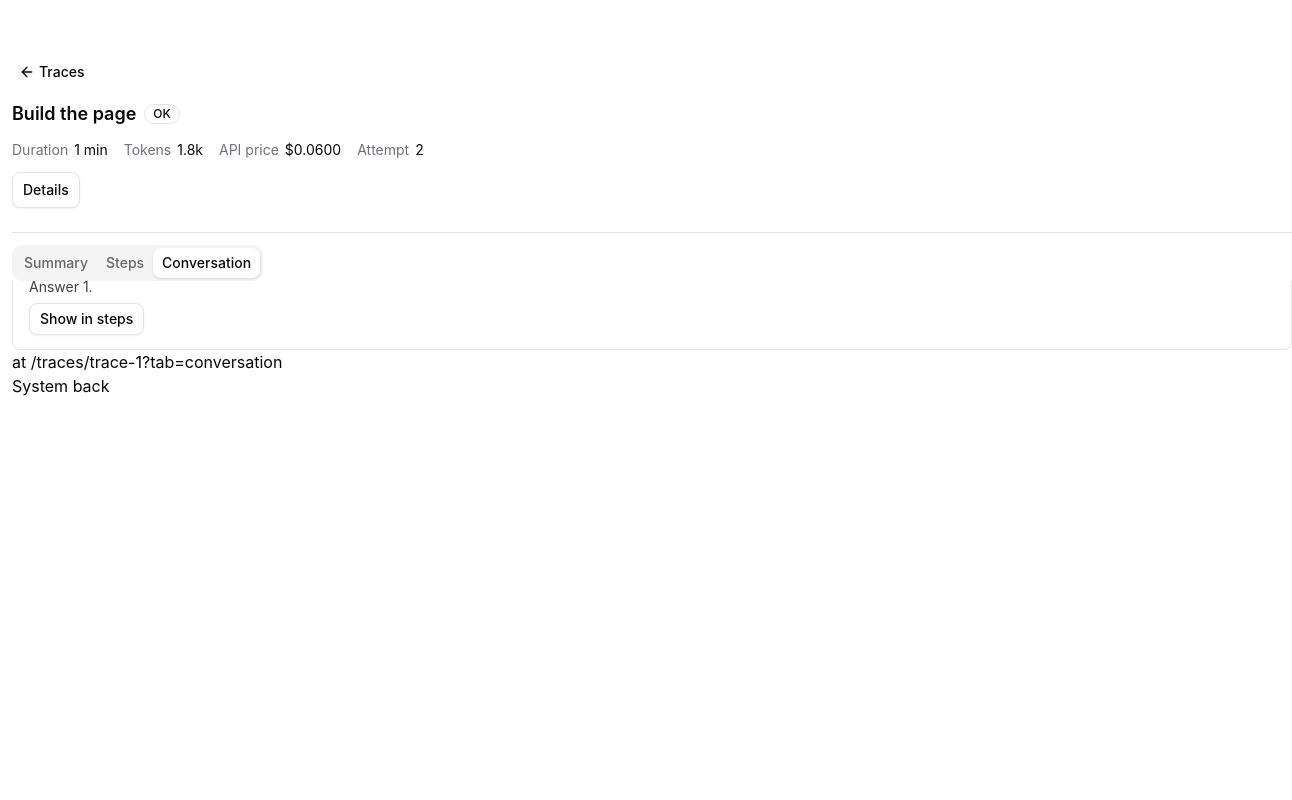
Test: TraceScreen conversation › links an entry to its turn span and the turn span back to the entry
The width and height of the screenshot is (1292, 800).
Click the button "Show in steps" at point(87, 319), box [29,303,144,335]
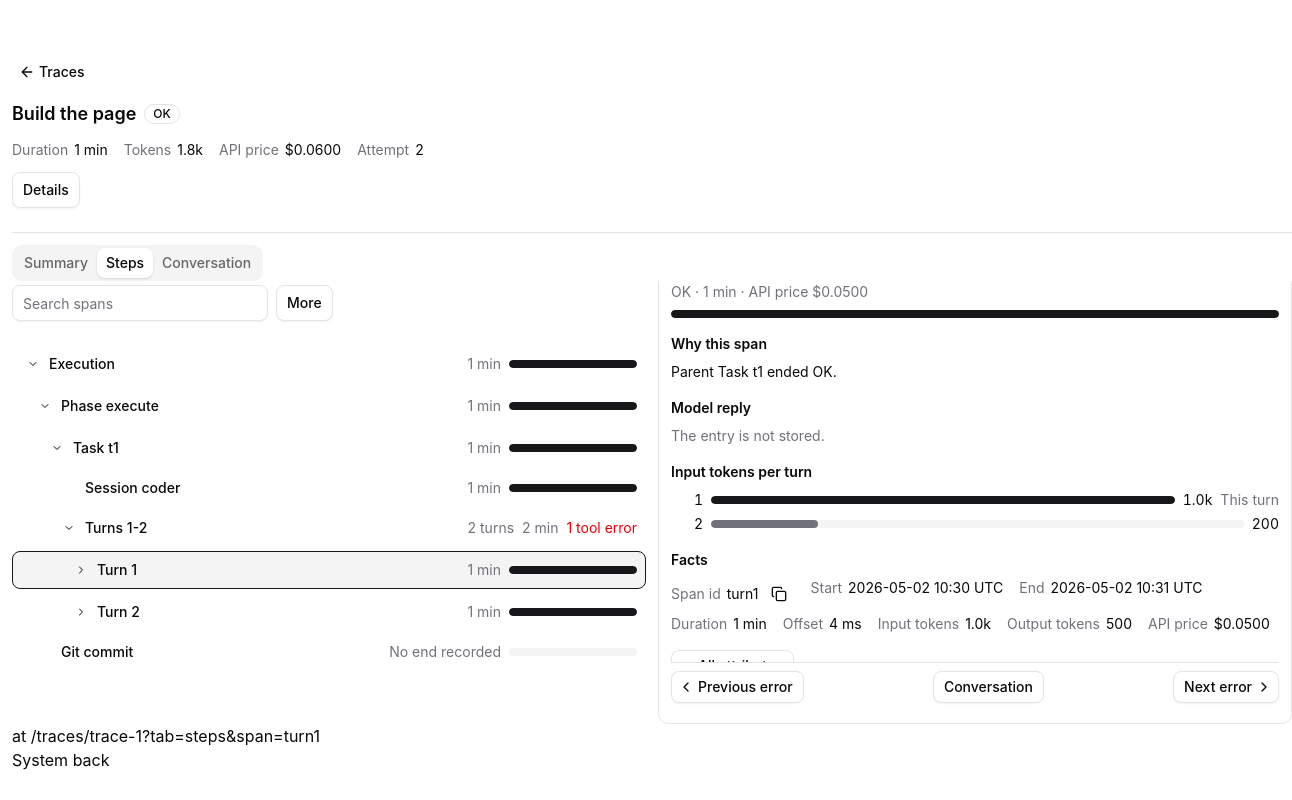
Result: the text "at /traces/trace-1?tab=steps&span=turn1" is shown at [12,726,320,746]
Click the button "Conversation" at point(988, 687), box [933,671,1044,703]
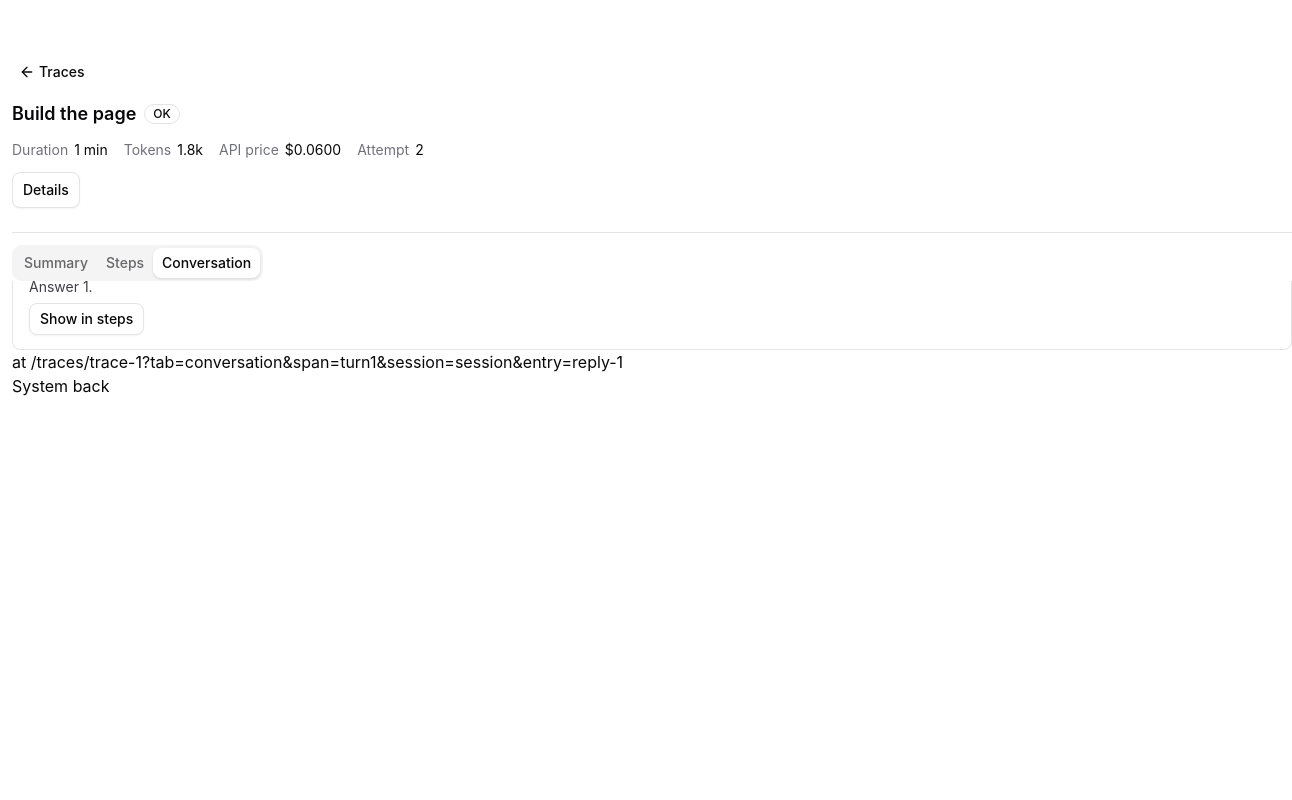
Result: the text "at /traces/trace-1?tab=conversation&span=turn1&session=session&entry=reply-1" is shown at [12,352,623,372]
Result: the text "Answer 1." is shown at [29,278,93,295]
